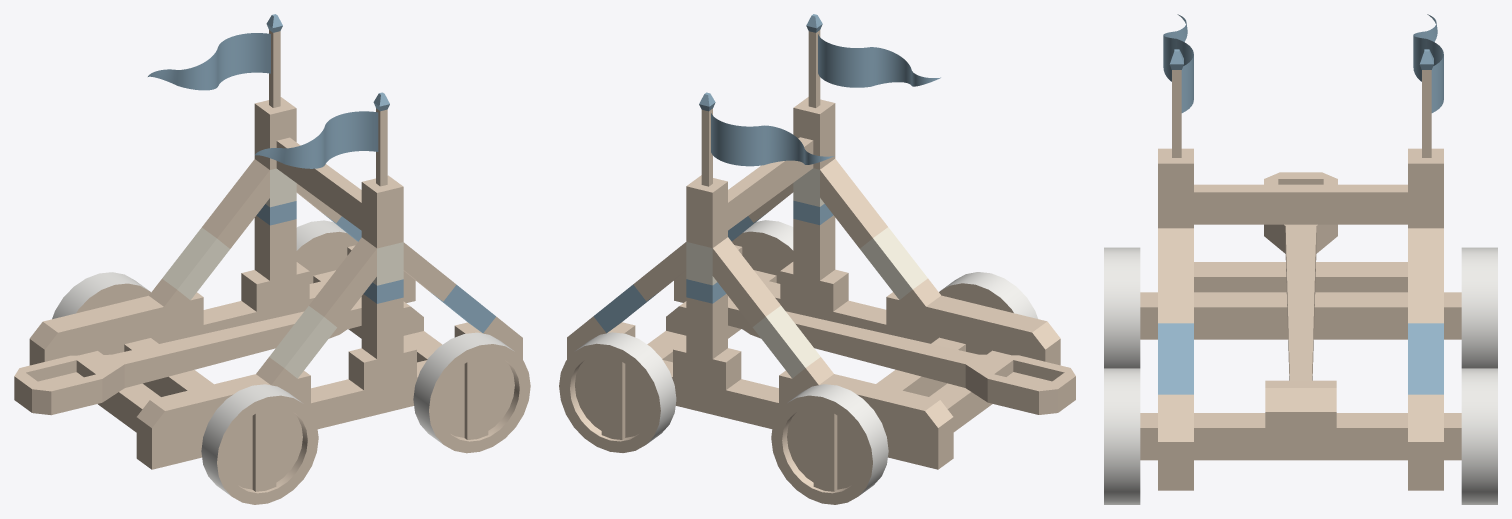
Rendered from siegeCatapult.glb.
3 views of the same model, side by side, from view 1: azimuth 30°, elevation 25°; view 2: azimuth 150°, elevation 25°; view 3: azimuth 270°, elevation 25° (orthographic). The views are drawn at different scales.
Parts seen in each view (by area): view 1: body 6, catapult 4, wheelBackRight 8, wheelFrontRight 11, flag 23, flag 22, wheelFrontLeft 11, wheelBackLeft 8; view 2: body 6, catapult 4, wheelFrontLeft 11, wheelBackLeft 8, flag 23, flag 22, wheelFrontRight 11, wheelBackRight 8; view 3: body 6, catapult 4, wheelFrontLeft 11, wheelFrontRight 11, wheelBackLeft 8, wheelBackRight 8, flag 22, flag 23.
Boxes of the visible parts, bbox=[...] form: body 6: bbox=[29, 97, 522, 469]; catapult 4: bbox=[14, 298, 361, 415]; wheelBackRight 8: bbox=[201, 384, 318, 504]; wheelFrontRight 11: bbox=[413, 332, 530, 453]; flag 23: bbox=[254, 92, 389, 186]; flag 22: bbox=[148, 14, 282, 107]; wheelFrontLeft 11: bbox=[296, 220, 357, 338]; wheelBackLeft 8: bbox=[52, 272, 150, 319]; body 6: bbox=[567, 97, 1060, 469]; catapult 4: bbox=[728, 298, 1075, 414]; wheelFrontLeft 11: bbox=[559, 332, 676, 452]; wheelBackLeft 8: bbox=[771, 384, 888, 504]; flag 23: bbox=[806, 14, 940, 107]; flag 22: bbox=[699, 92, 834, 186]; wheelFrontRight 11: bbox=[732, 220, 793, 338]; wheelBackRight 8: bbox=[939, 272, 1037, 318]; body 6: bbox=[1140, 148, 1461, 490]; catapult 4: bbox=[1264, 172, 1337, 380]; wheelFrontLeft 11: bbox=[1461, 368, 1497, 504]; wheelFrontRight 11: bbox=[1104, 368, 1140, 504]; wheelBackLeft 8: bbox=[1461, 247, 1497, 368]; wheelBackRight 8: bbox=[1104, 247, 1140, 368]; flag 22: bbox=[1413, 14, 1443, 157]; flag 23: bbox=[1163, 14, 1193, 157].
Bounding box in the file's own units: 17.35 × 13.3 × 11.57.
